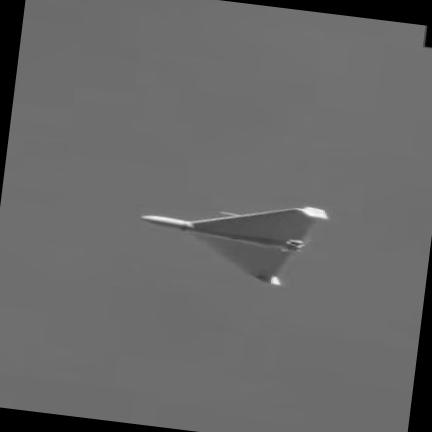Shahed: (141, 205, 329, 285)
